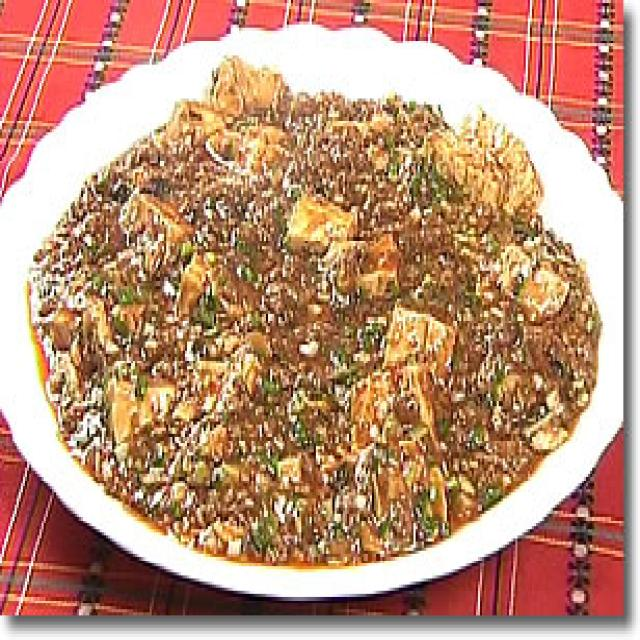豆腐料理: (6, 3, 609, 597)
